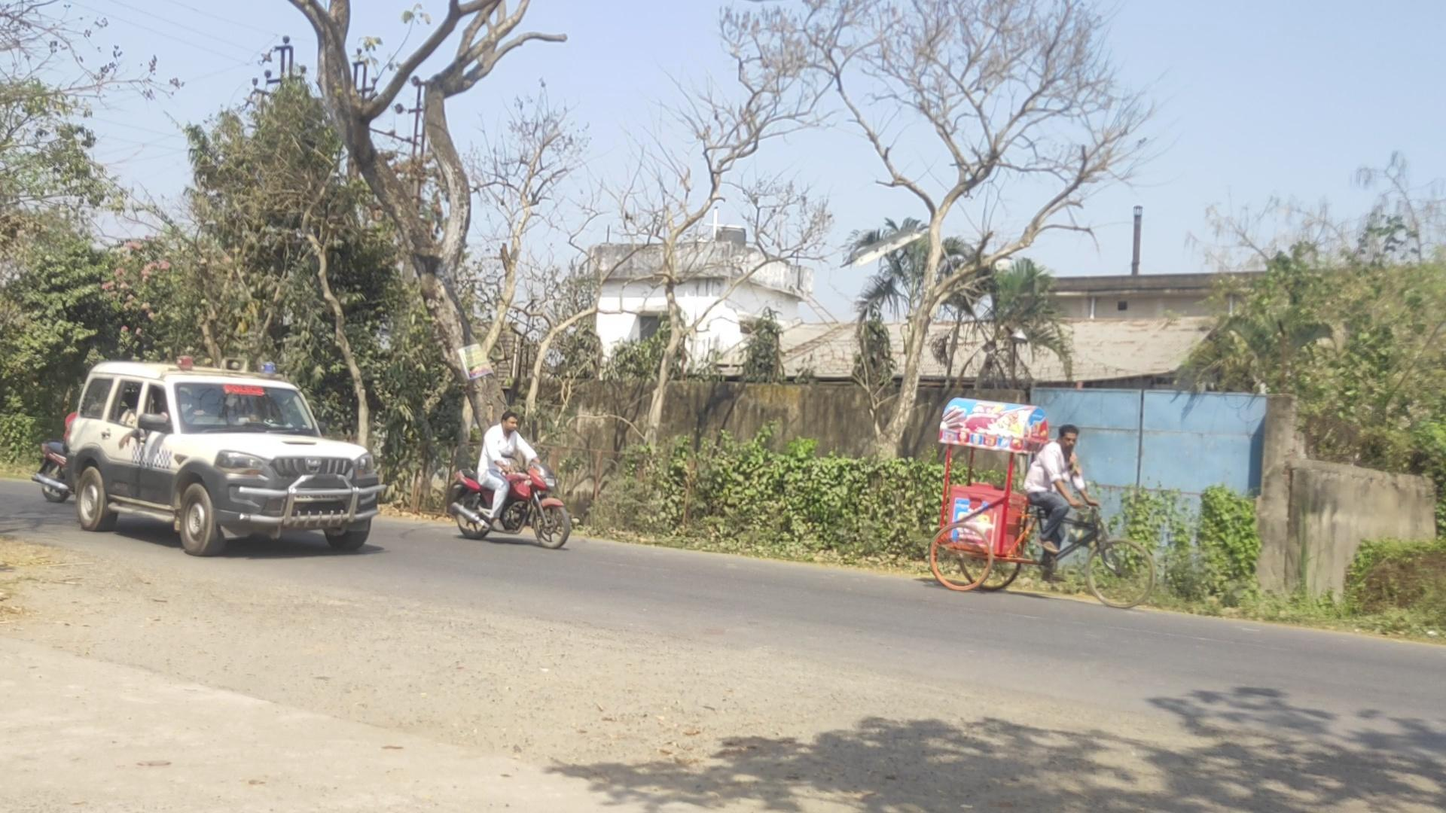bike: (447, 410, 572, 550)
car: (63, 355, 385, 556)
